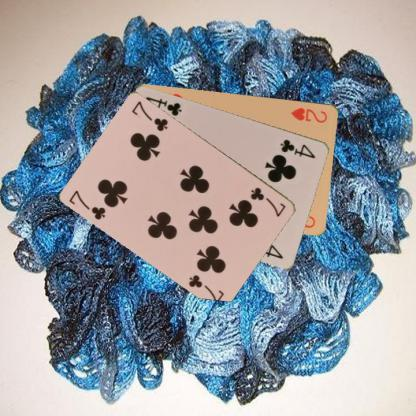2h: (288, 105, 329, 124)
4c: (277, 136, 318, 160)
7c: (66, 187, 108, 221), (248, 184, 288, 218)
